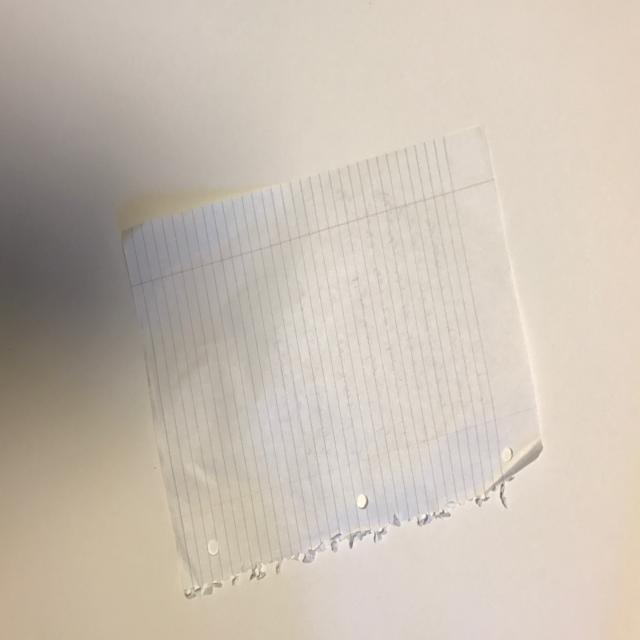paper: (120, 125, 544, 600)
